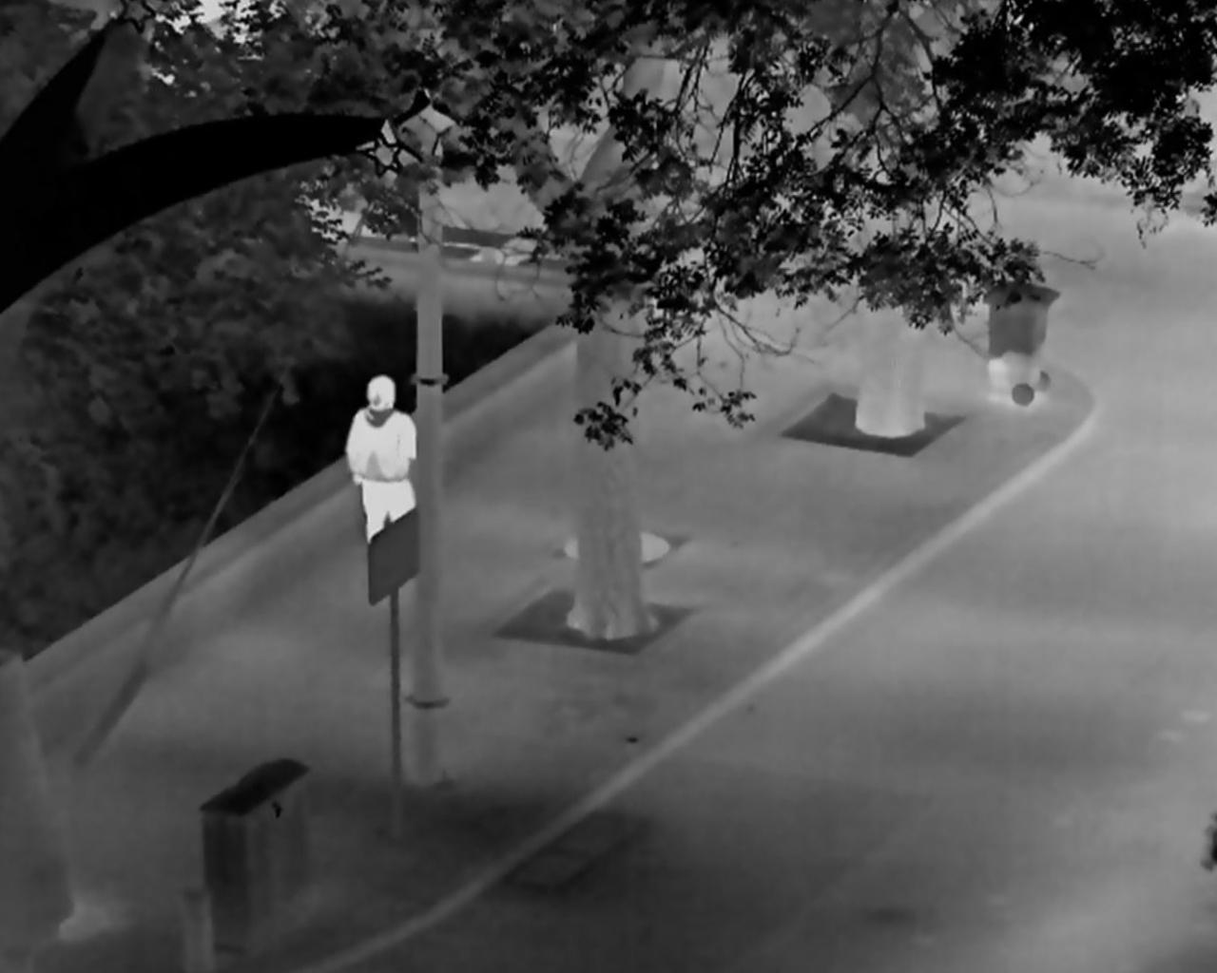person: (343, 373, 417, 549)
